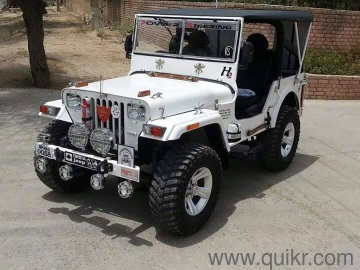Vehicle: (31, 9, 316, 230)
